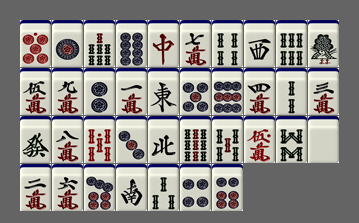0m: (244, 116, 275, 163)
0p: (20, 20, 51, 67)
0s: (84, 116, 115, 163)
1m: (116, 68, 147, 115)
1p: (52, 20, 83, 67)
1s: (308, 20, 339, 67)
1z: (148, 68, 179, 115)
2m: (20, 164, 51, 211)
2p: (84, 68, 115, 115)
2s: (276, 68, 307, 115)
2z: (116, 164, 147, 211)
3m: (308, 68, 339, 115)
3p: (116, 116, 147, 163)
3s: (148, 164, 179, 211)
3z: (244, 20, 275, 67)
4m: (244, 68, 275, 115)
4p: (180, 164, 211, 211)
4s: (212, 20, 243, 67)
4z: (148, 116, 179, 163)
5m: (20, 68, 51, 115)
5p: (180, 68, 211, 115)
5s: (212, 116, 243, 163)
5z: (308, 116, 339, 163)
6m: (52, 164, 83, 211)
6p: (212, 164, 243, 211)
6s: (276, 20, 307, 67)
6z: (20, 116, 51, 163)
7m: (180, 20, 211, 67)
7p: (84, 164, 115, 211)
7s: (84, 20, 115, 67)
7z: (148, 20, 179, 67)
8m: (52, 116, 83, 163)
8p: (116, 20, 147, 67)
8s: (276, 116, 307, 163)
9m: (52, 68, 83, 115)
9p: (212, 68, 243, 115)
9s: (180, 116, 211, 163)
